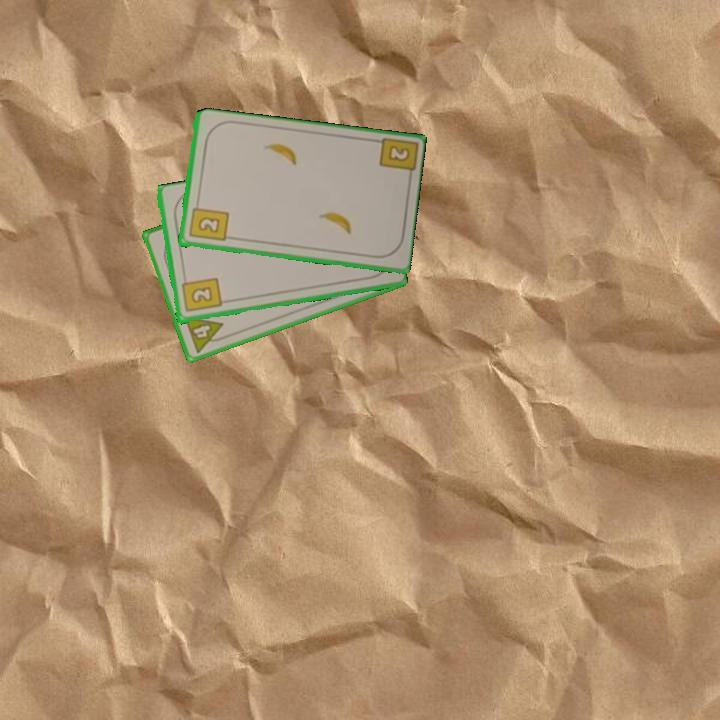2b: (185, 199, 230, 244), (178, 273, 224, 315), (384, 142, 413, 165)
4p: (181, 312, 230, 356)
